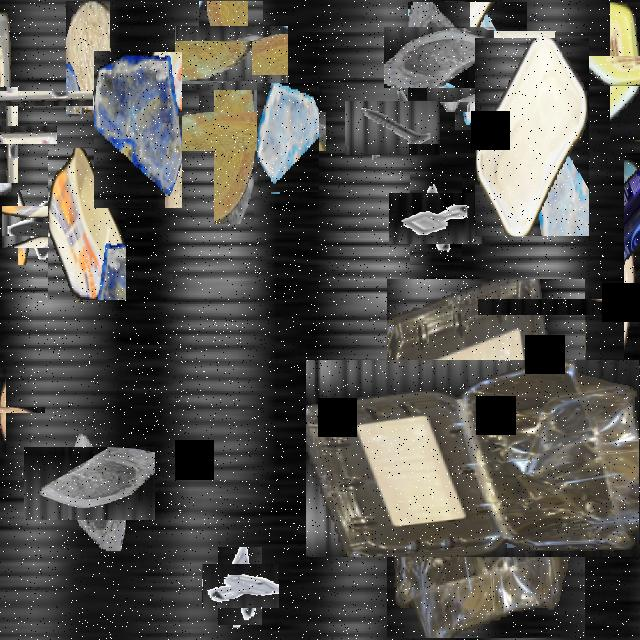glass: (94, 52, 182, 208), (484, 441, 590, 547), (39, 432, 141, 535), (441, 16, 541, 116), (187, 14, 276, 103), (396, 14, 482, 100), (257, 84, 319, 194)
metal: (354, 90, 430, 166), (400, 182, 472, 255), (210, 556, 270, 617), (10, 198, 68, 257), (0, 106, 37, 163)
plastic: (347, 319, 625, 598), (475, 38, 589, 236), (550, 226, 640, 388), (48, 148, 126, 300), (561, 344, 640, 445), (0, 46, 60, 150), (583, 28, 640, 113)
wood: (178, 75, 290, 188), (66, 1, 110, 116), (0, 387, 25, 433)
